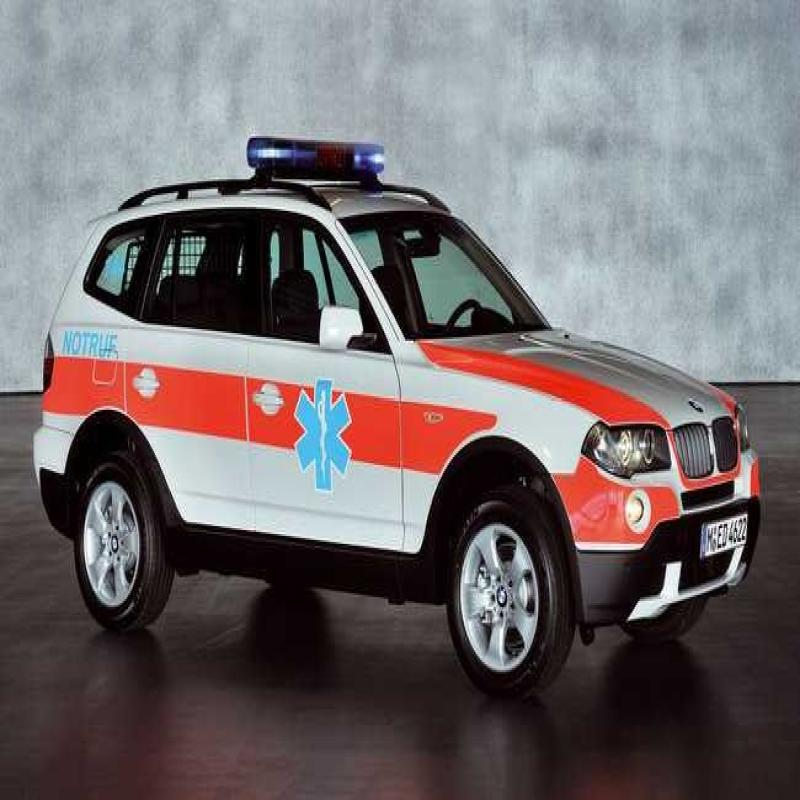AmbulanceSiren: (241, 111, 420, 195)
